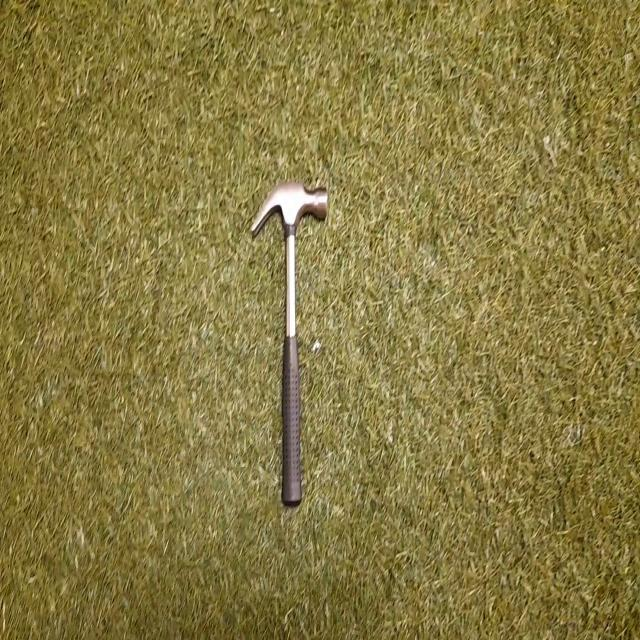hammer: (252, 181, 329, 507)
